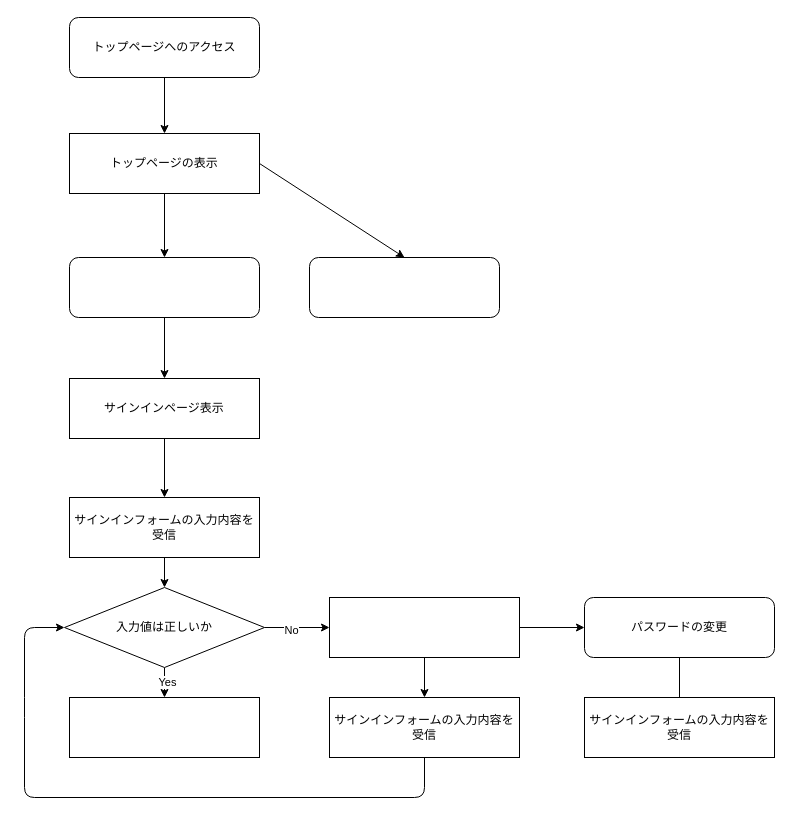
Image size: 792x823. Some labels were removed from this diagram. Here are the shapes that lost their labels. From the top down, the centre of each, then its label:
the point at 164,287: サインインページへのアクセス
the point at 404,287: サインアップページへのアクセス
the point at 424,627: エラーメッセージを表示
the point at 164,727: ユーザートップページへ遷移
